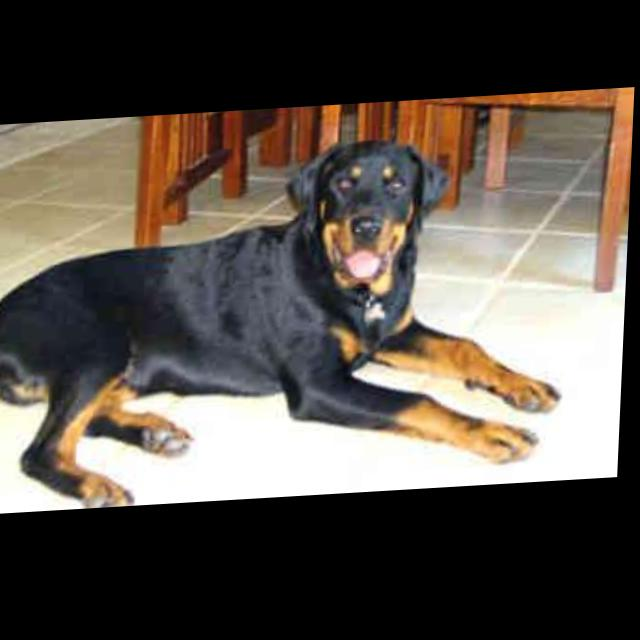rottweiler: (1, 133, 577, 515)
